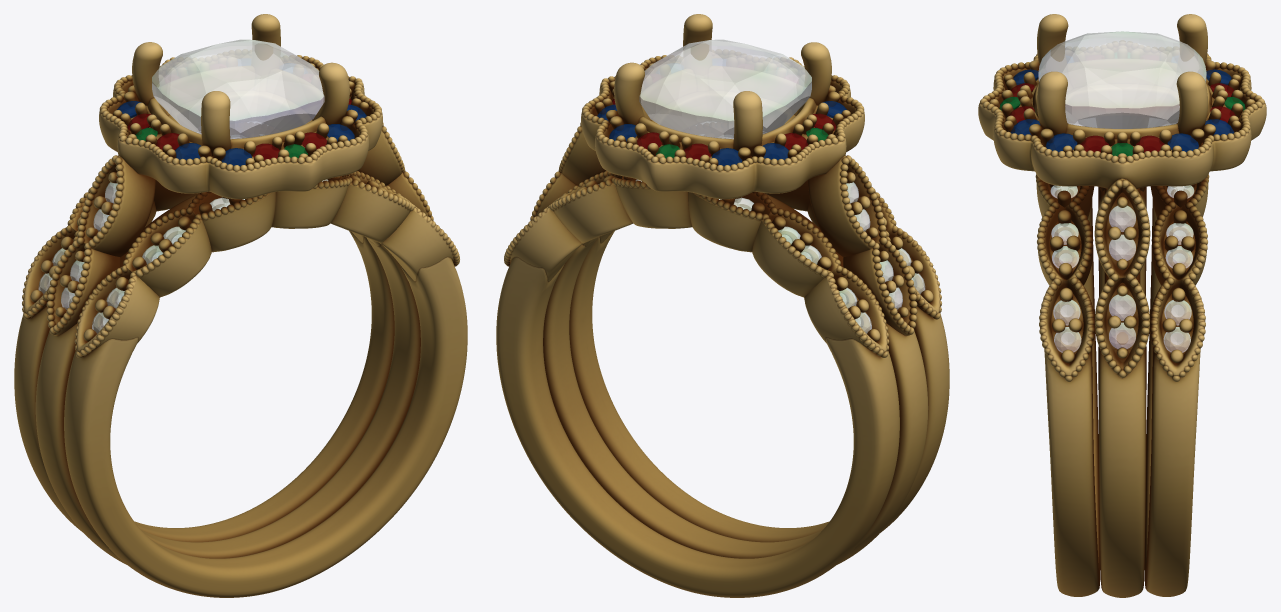
File: gem_ring2.glb
3 renders of one model, left to right at view 1: azimuth 30°, elevation 25°; view 2: azimuth 150°, elevation 25°; view 3: azimuth 270°, elevation 25°, orthographic. The views are drawn at different scales.
Parts seen in each view (by area): view 1: Ring2; view 2: Ring2; view 3: Ring2.
Part boxes in pixels (x1,y1,x2,y2): Ring2: (14, 14, 467, 597); Ring2: (496, 14, 949, 597); Ring2: (978, 14, 1266, 597).
Bounding box in the file's own units: 0.2231 × 0.2791 × 0.1373.
1 material, 1 textured.
